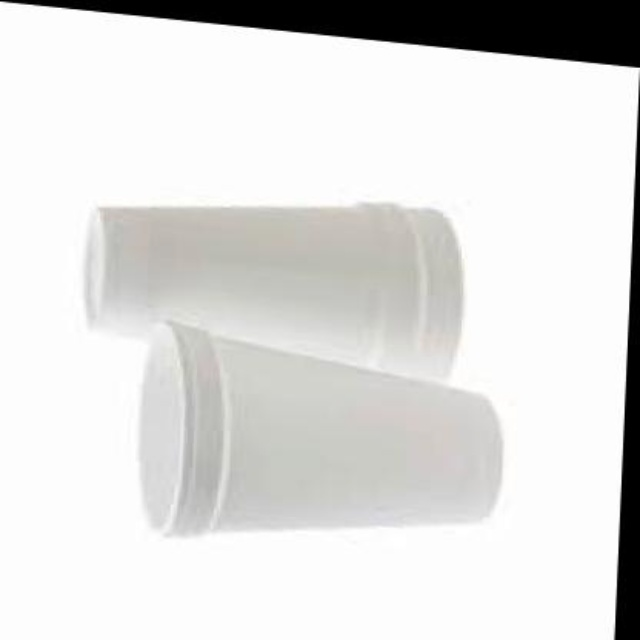trash: (86, 203, 500, 534), (140, 323, 500, 534), (86, 203, 462, 375)
